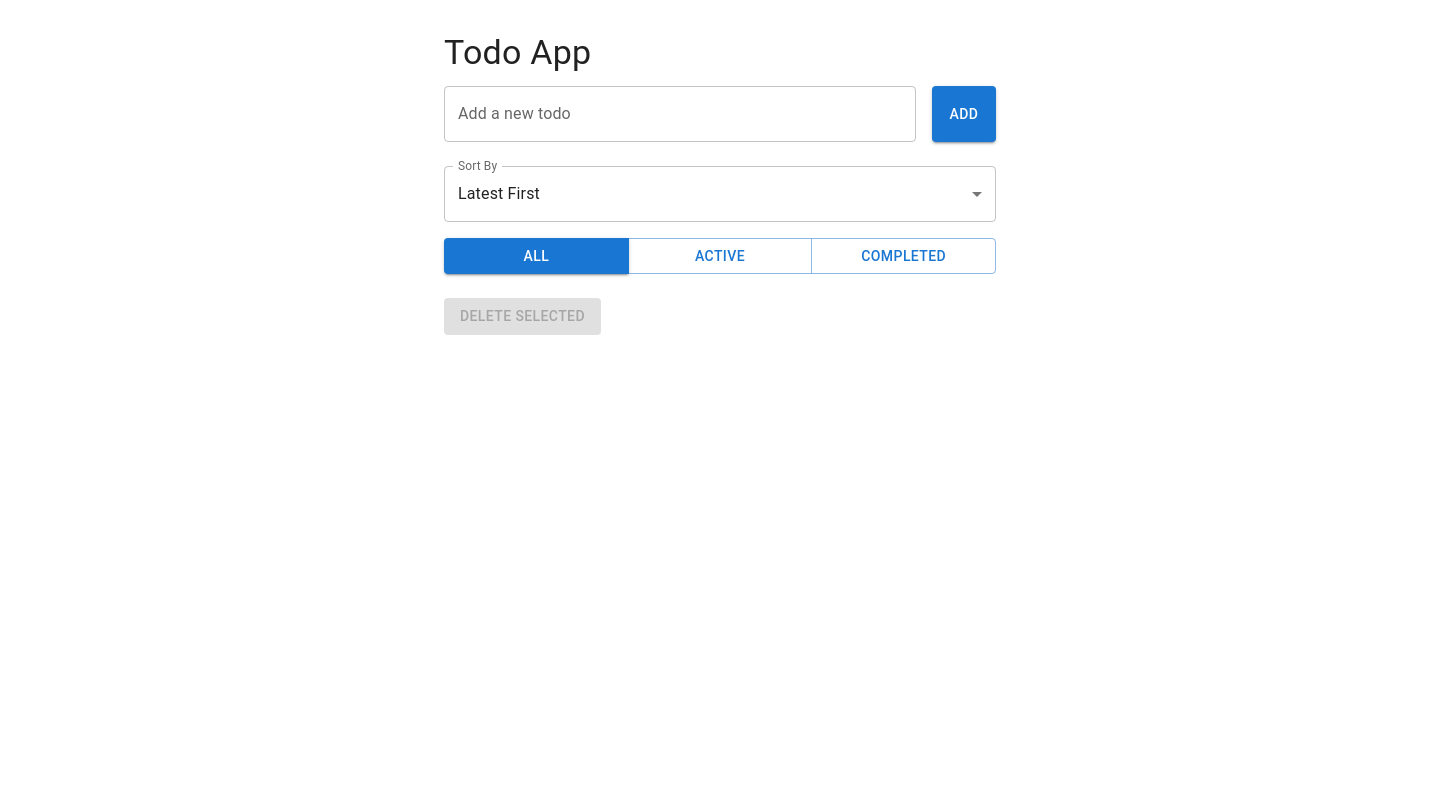
Todo App › should show a confirmation dialog before deleting a todo item
The image size is (1440, 810).
Type "Todo to Delete" into the field labelled "Add a new todo". click: (680, 114)
box: [444, 86, 916, 142]
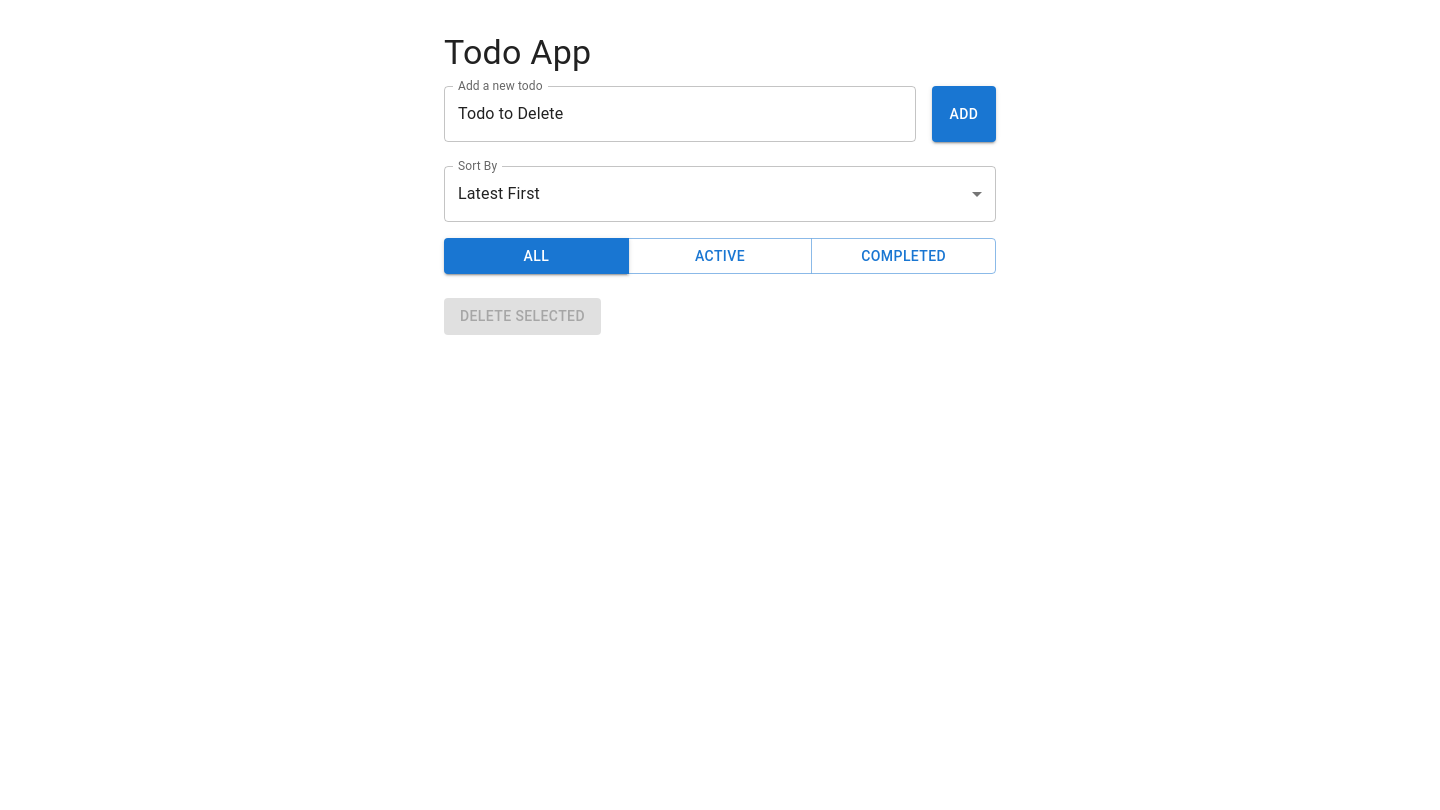
Click the button "Add". click: click(964, 114)
box: [932, 86, 996, 142]
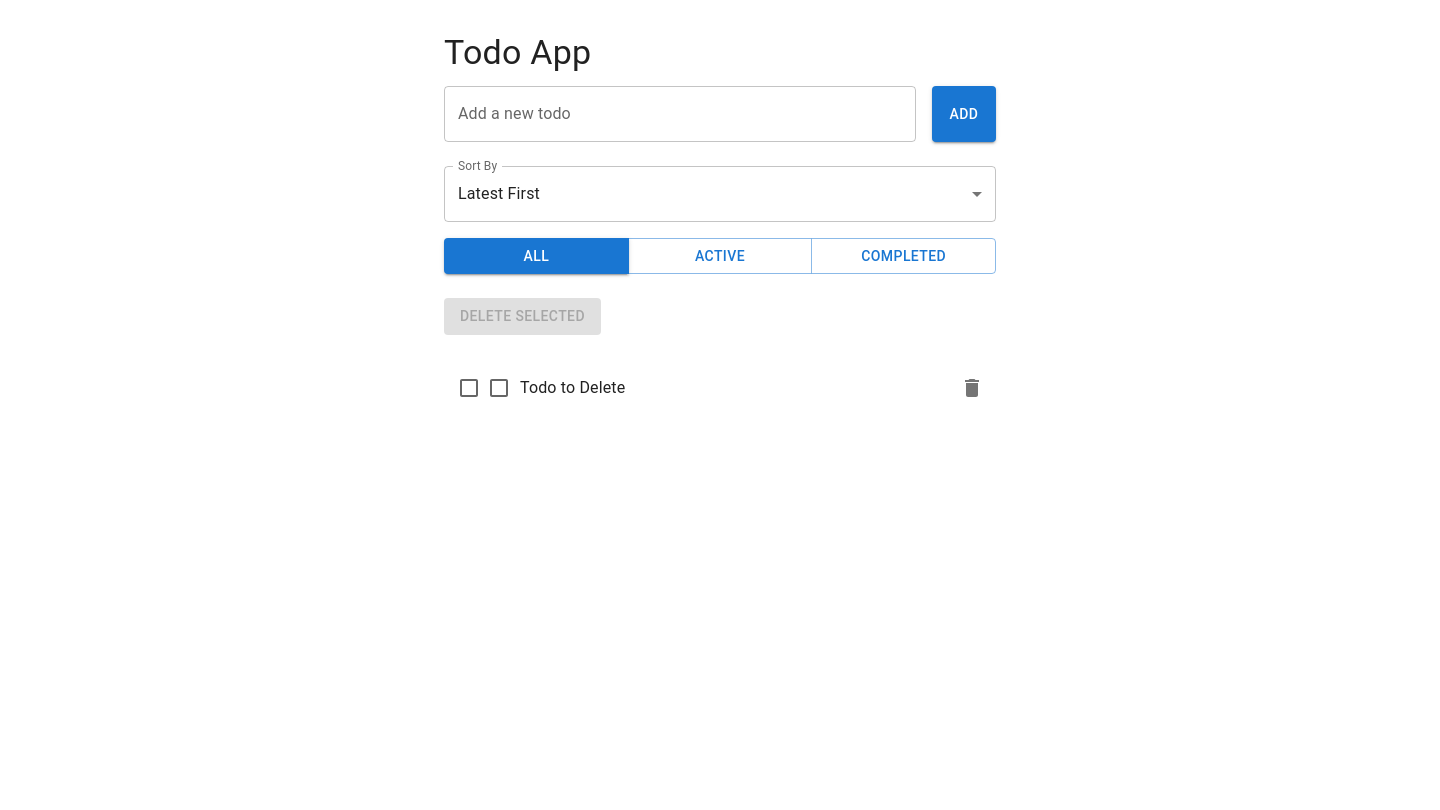
Click the button named "delete". click: click(972, 388)
box: [952, 368, 992, 408]
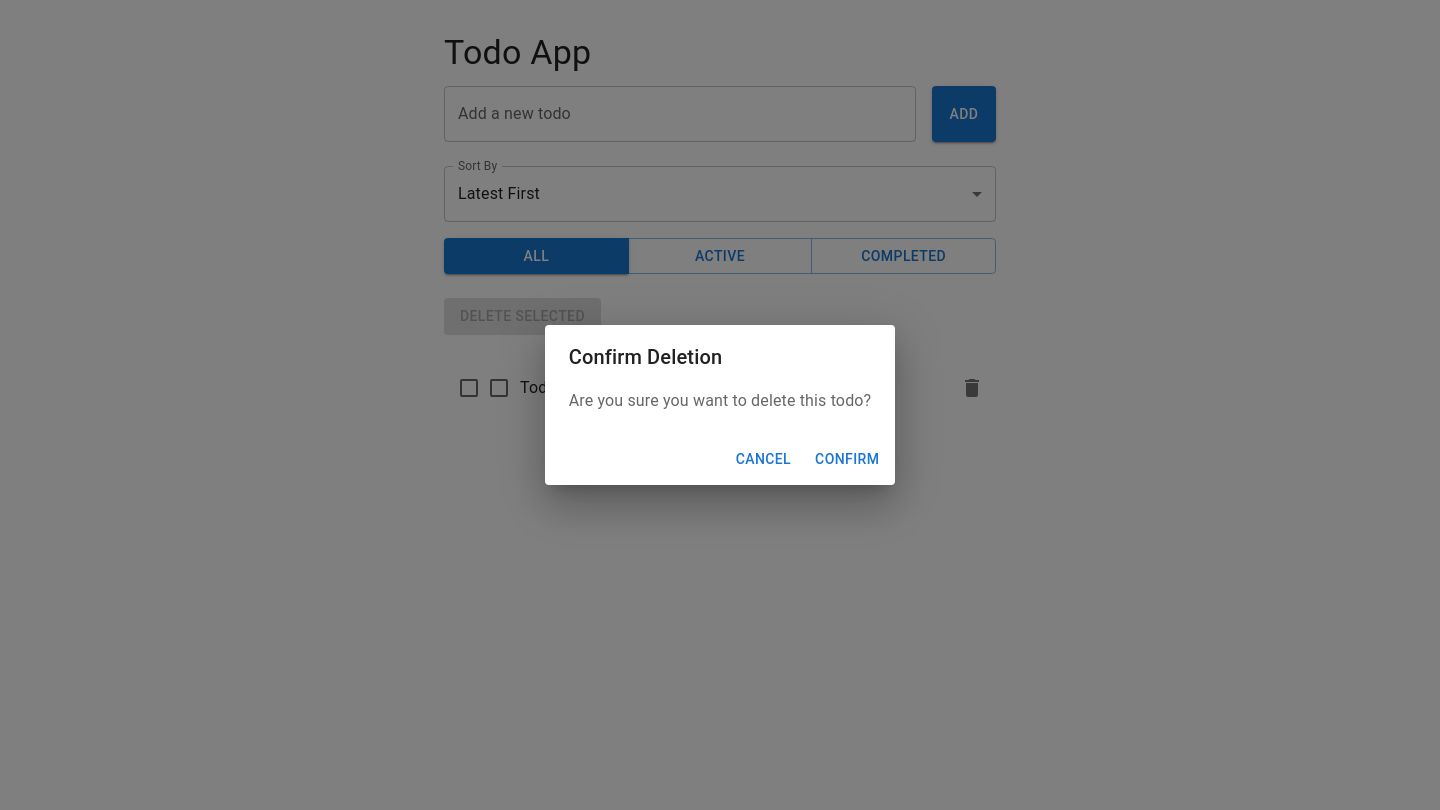
expect the text "Are you sure you want to delete this todo?" is shown: met, box [569, 389, 871, 413]
Click the button "Confirm". click: click(847, 459)
box: [807, 441, 887, 477]
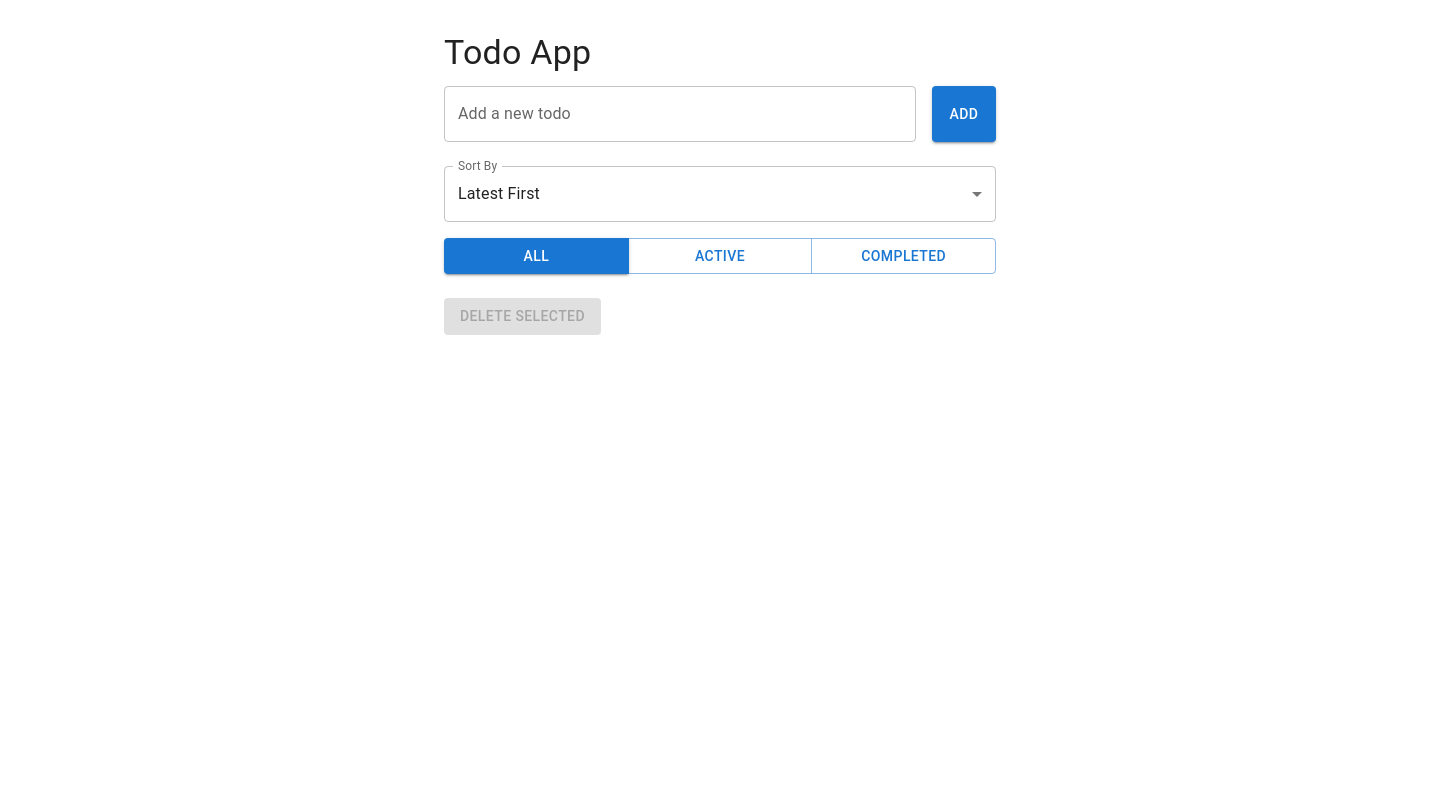
expect the text "Todo to Delete" is gone: met
